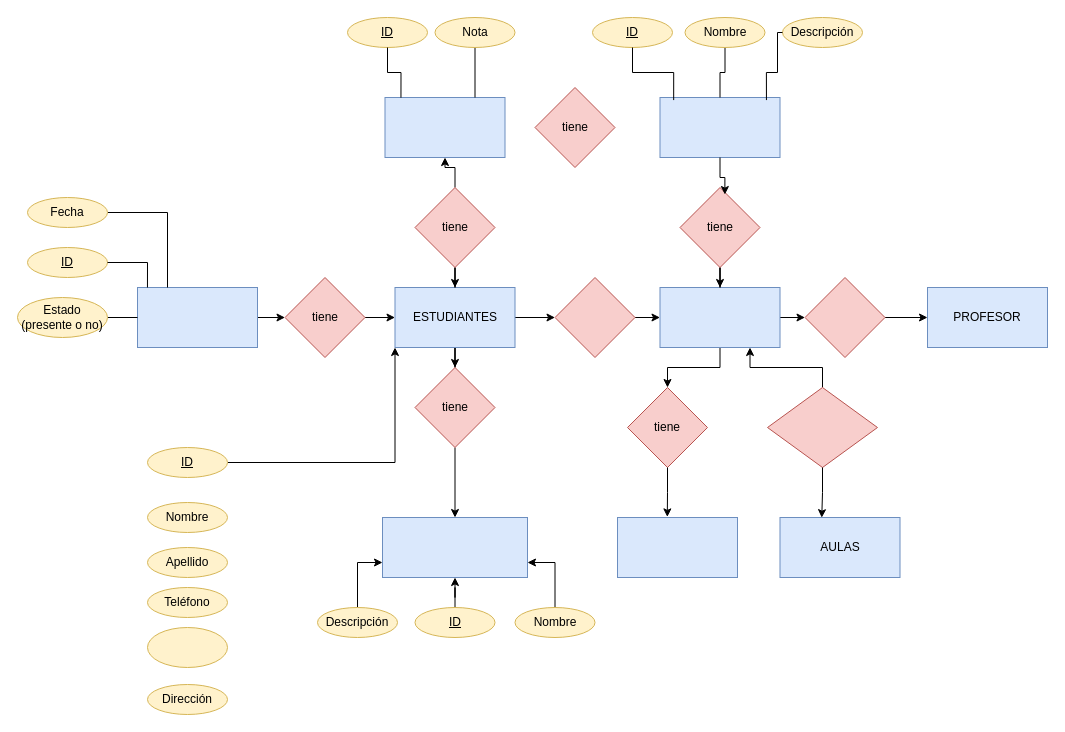
Some shapes in this 1065 by 732 pixel diagram are drawn without their labels. The shapes that lost their labels are listed below. From the top down, each one's box as (x1, y1, x2, y2) in pixels, then its label:
(384, 96, 505, 158): CALIFICACIONES
(659, 96, 780, 158): MATERIAS
(136, 286, 258, 348): ASISTENCIAS
(554, 276, 635, 358): matriculado
(659, 286, 780, 348): CURSOS
(804, 276, 885, 358): enseña
(766, 386, 878, 468): lleva a cabo en
(382, 516, 528, 578): ACTIVIDADES EXTRACURRICULARES
(616, 516, 738, 578): HORARIOS
(146, 626, 228, 668): Fecha Nacimiento
